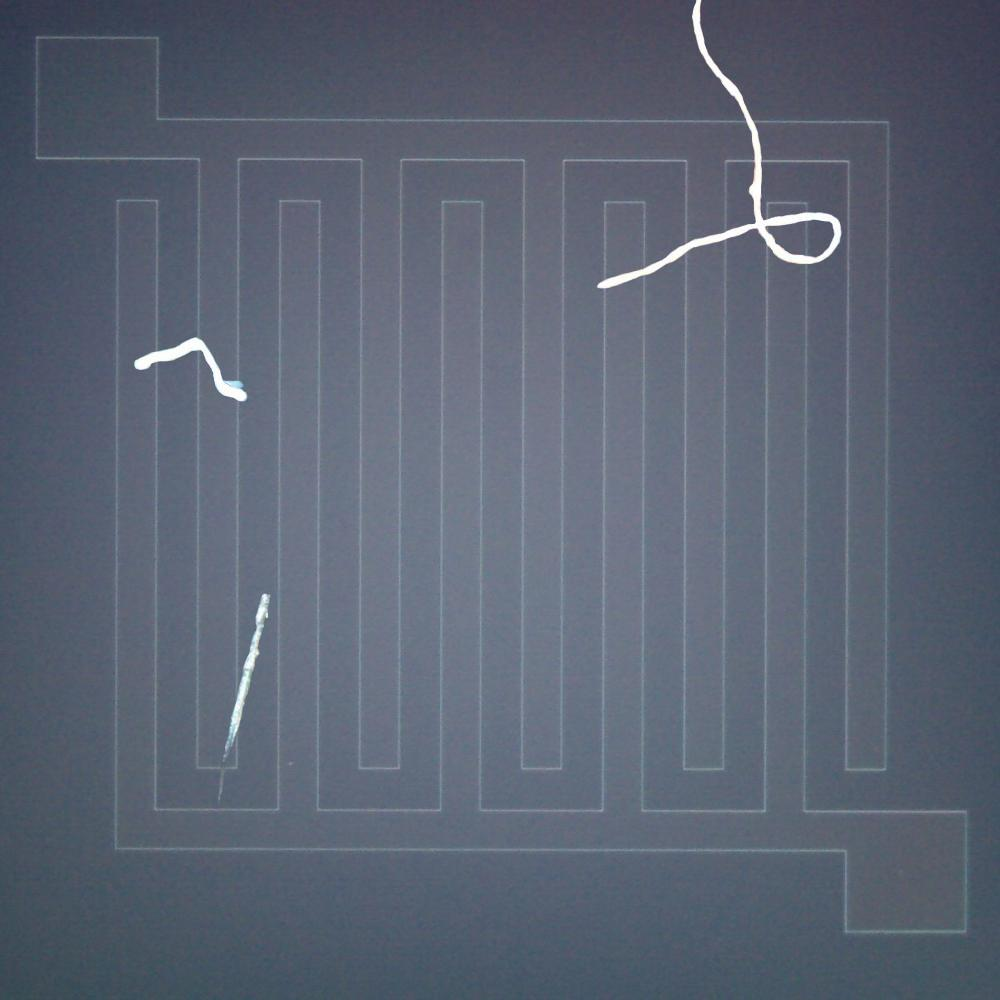line: (583, 0, 856, 303), (128, 330, 253, 411)
scratch: (212, 581, 282, 779)
